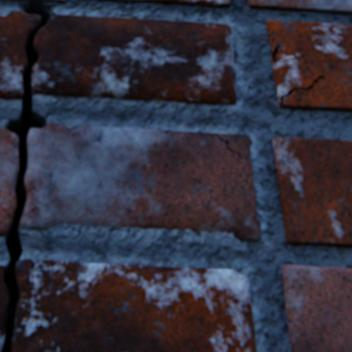brick: (272, 137, 351, 246), (266, 20, 351, 110), (281, 264, 351, 351), (246, 0, 351, 14), (103, 0, 229, 6), (30, 0, 65, 2)
broken_brick: (20, 123, 260, 239), (13, 258, 254, 351), (32, 12, 235, 103), (0, 11, 40, 98), (0, 127, 18, 234), (0, 264, 8, 346)
crack: (0, 1, 52, 351), (279, 75, 323, 104), (196, 131, 240, 156), (271, 43, 303, 63)
